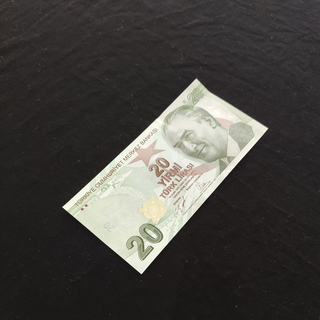20TLFront: (65, 78, 269, 273)
